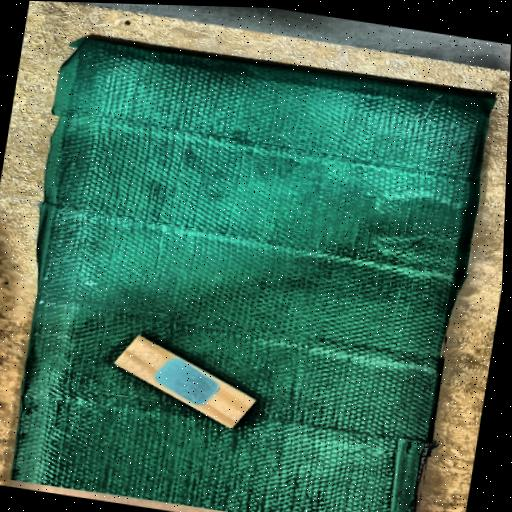objects: (114, 332, 257, 433)
